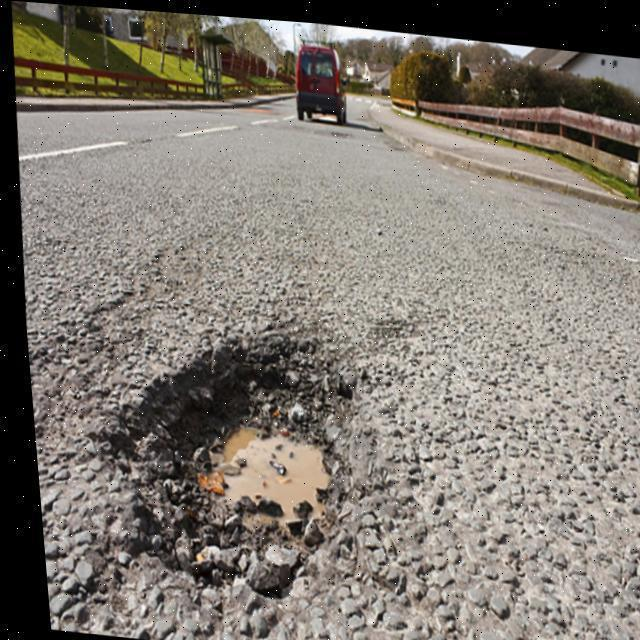Pothole: (94, 312, 355, 601)
